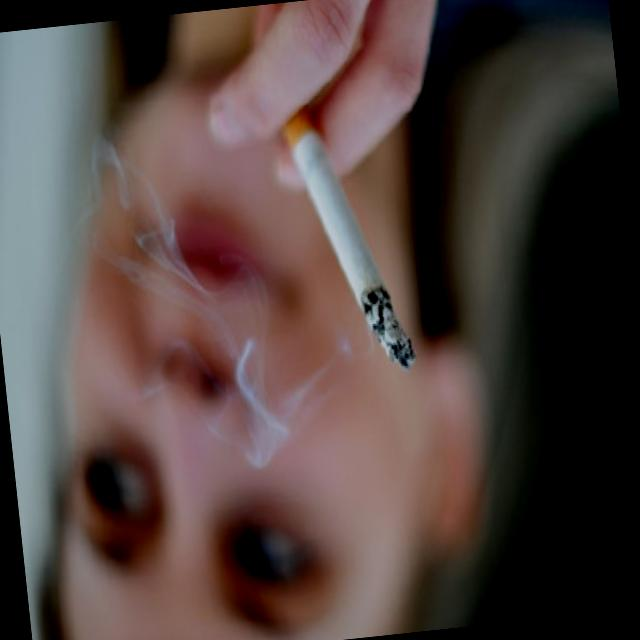smoke: (274, 113, 419, 392)
